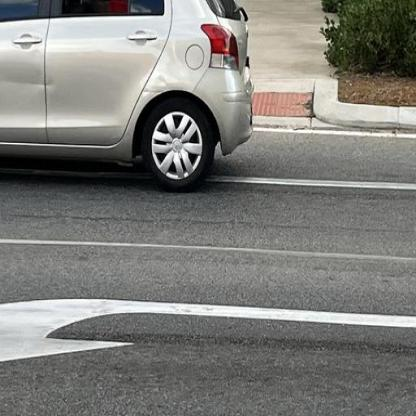Tire: (140, 98, 216, 192)
